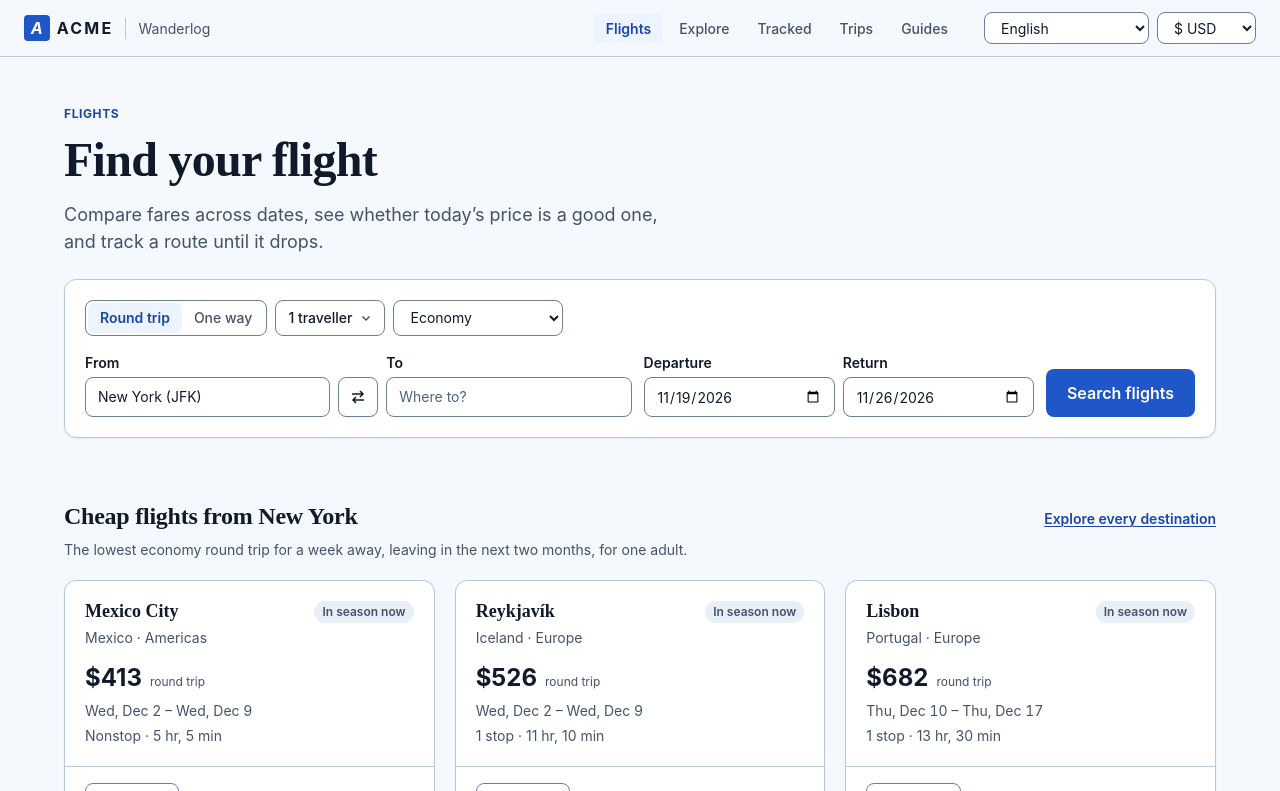
Test case: Flights › counts travellers within the booking rules
Click the button "1 traveller" at (330,318), box [275,300,385,336]
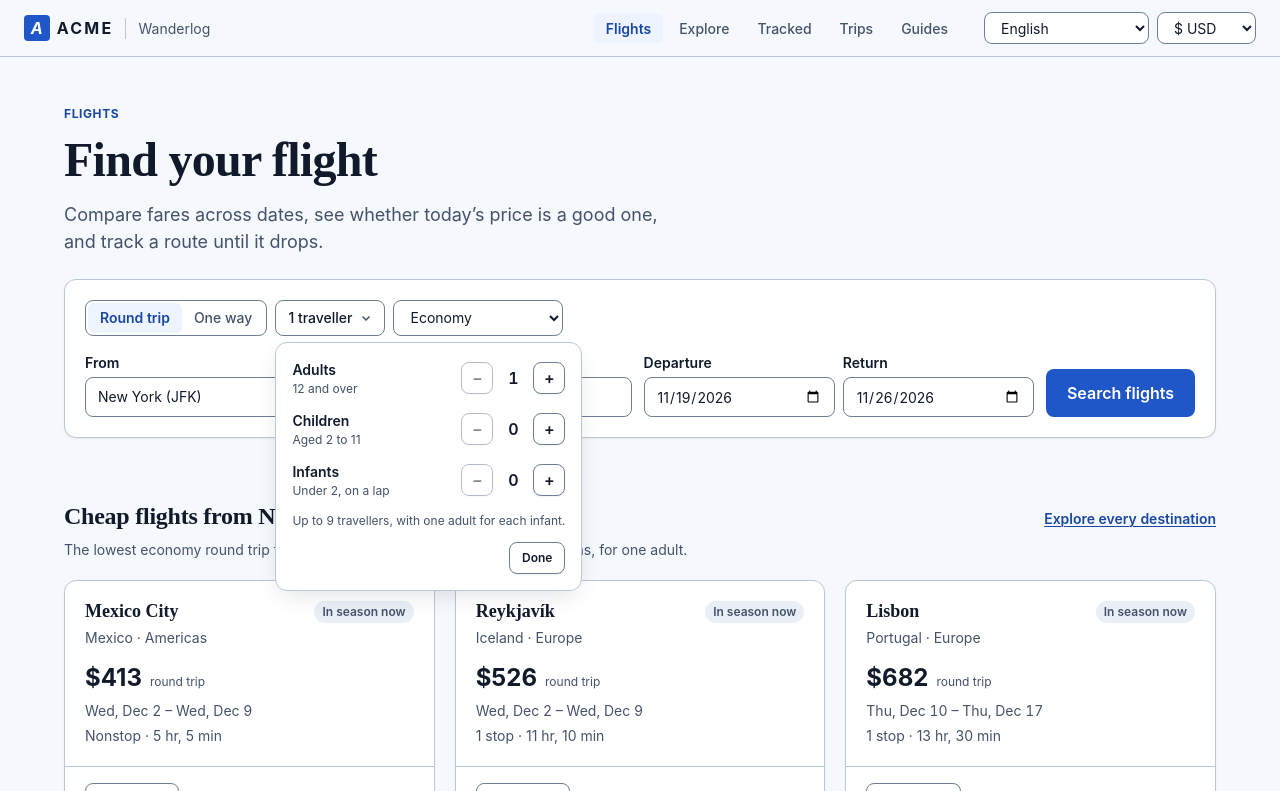
Expected: the button named "Remove an adult" is disabled, [461,362,493,394]
Click the button named "Add a child" at (549,429), box [533,413,565,445]
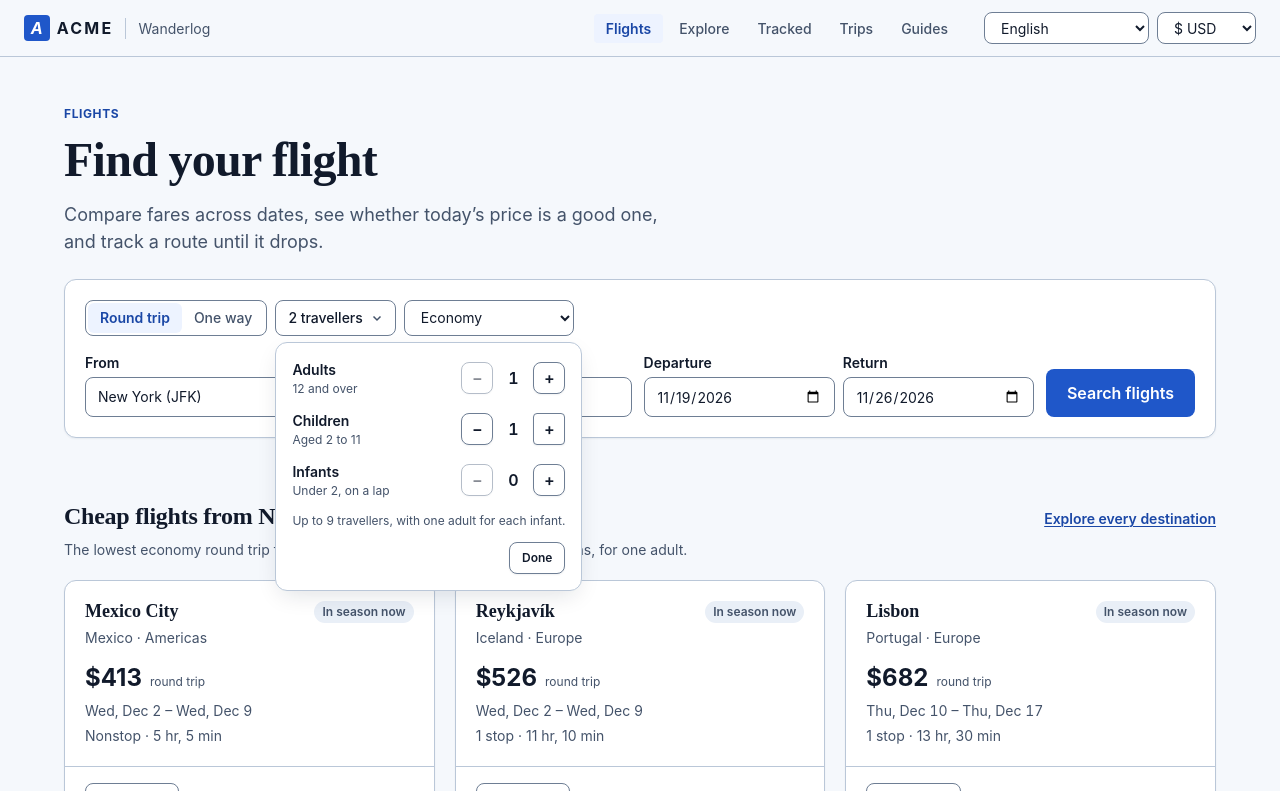
Click the button named "Add an infant" at (549,480), box [533,464,565,496]
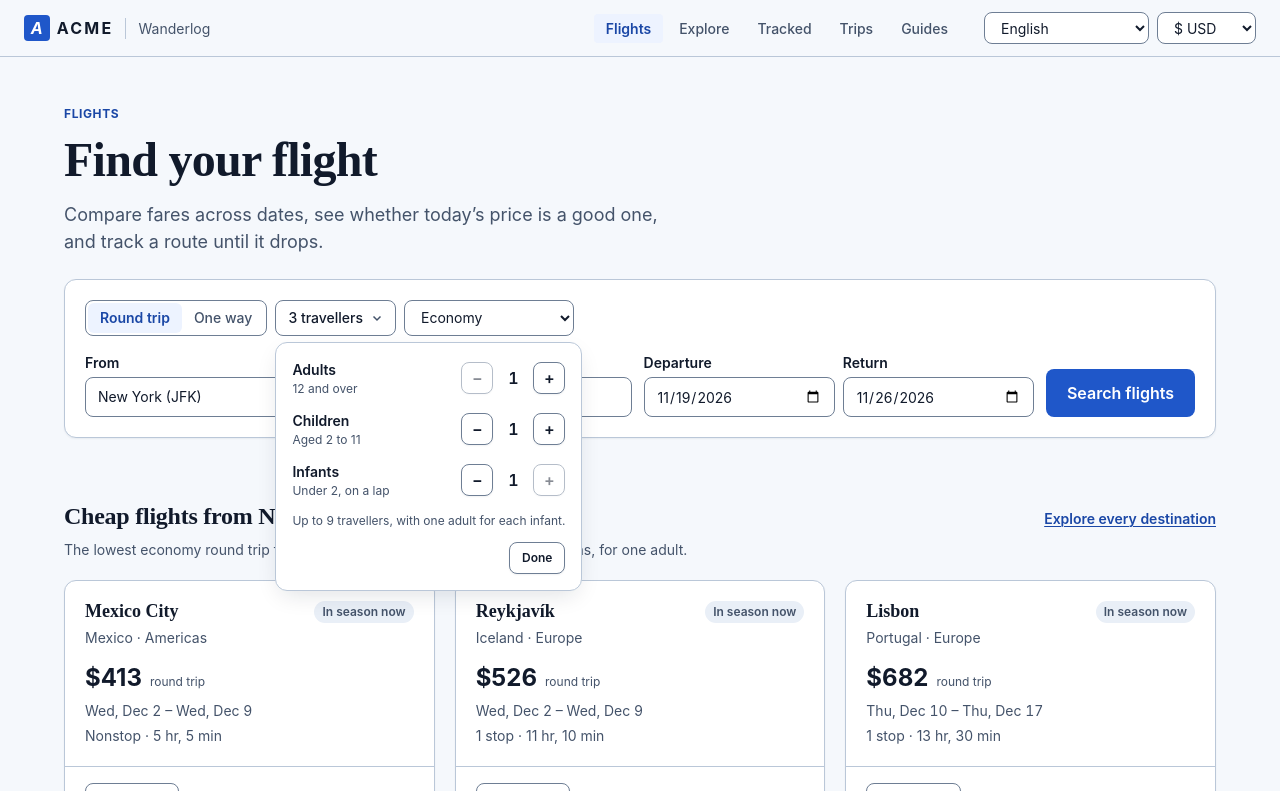
Expected: the button named "Add an infant" is disabled, [533,464,565,496]
Click the button "Done" at (537,558), box [509,542,565,574]
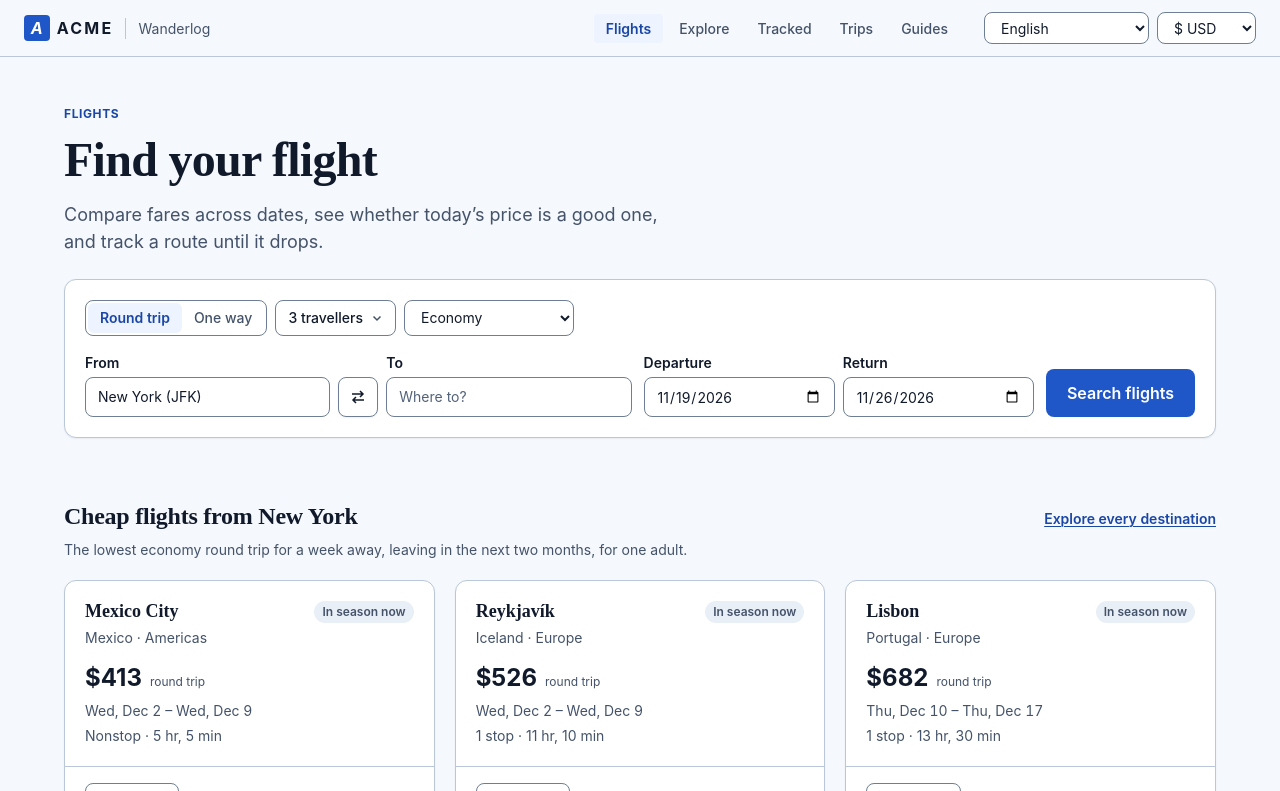
Expected: the button "3 travellers" is shown, [275,300,396,336]
Expected: the dialog is gone
